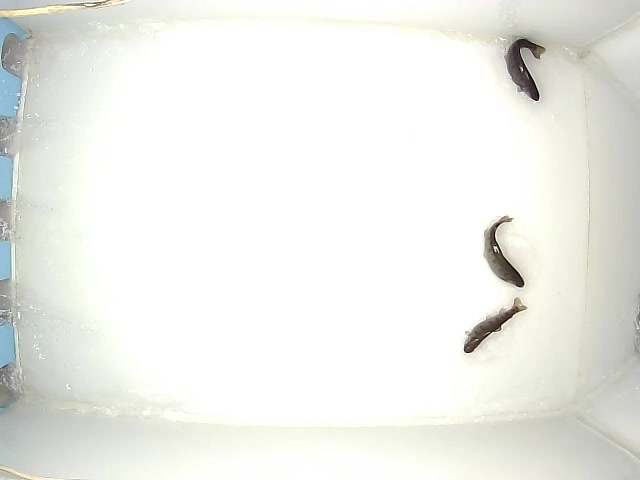fish: (462, 297, 529, 354), (481, 213, 526, 289), (503, 37, 548, 103)
